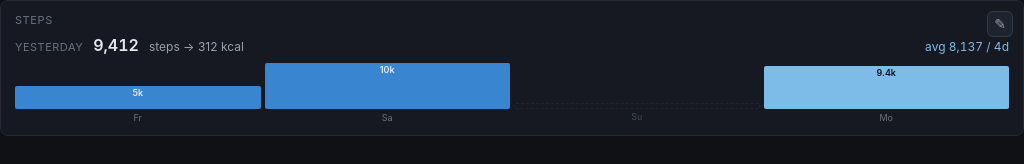
StepsBlock › prefills the input with the logged count
Click the button with test id "block-edit". click: (1000, 24)
box: x1=987 y1=11 x2=1013 y2=37
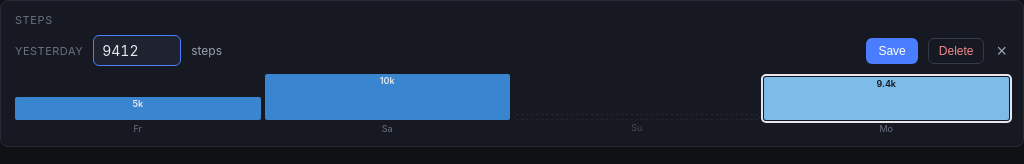
Expected: the field with test id "steps-edit-input" holds "9412", x1=93 y1=35 x2=181 y2=66
